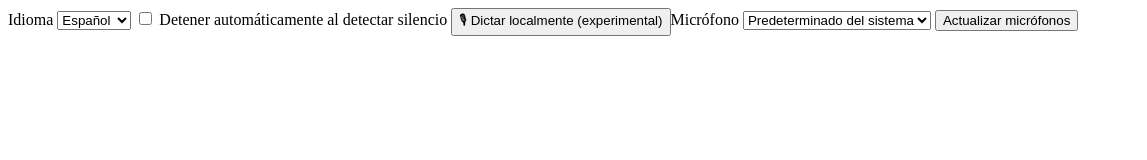
local dictation interaction › rejects missing model before requesting the microphone
Step 1. Click the button "🎙 Dictar localmente (experimental)" → x=561, y=22, box 451,8 -> 670,36
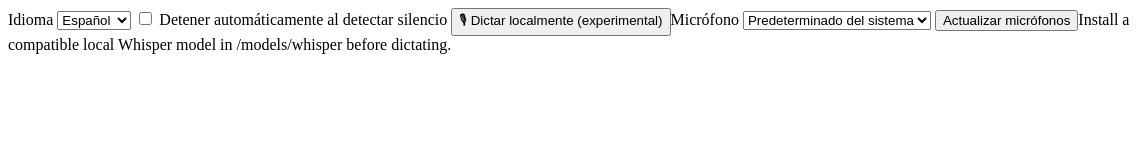
expect the text "/models/whisper" is shown: met, box 8,11 -> 1130,53
